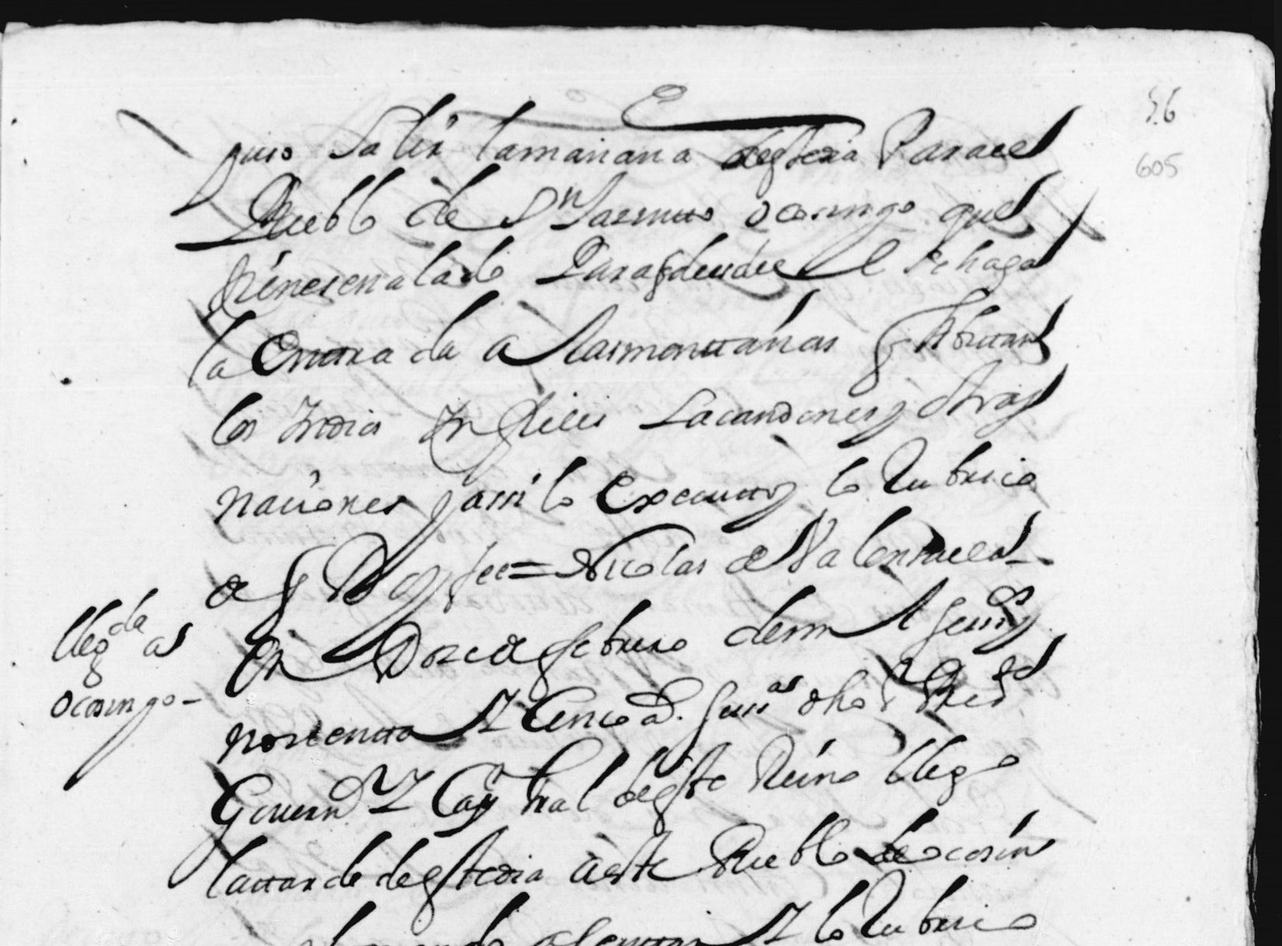lacandon: (639, 388, 878, 429)
